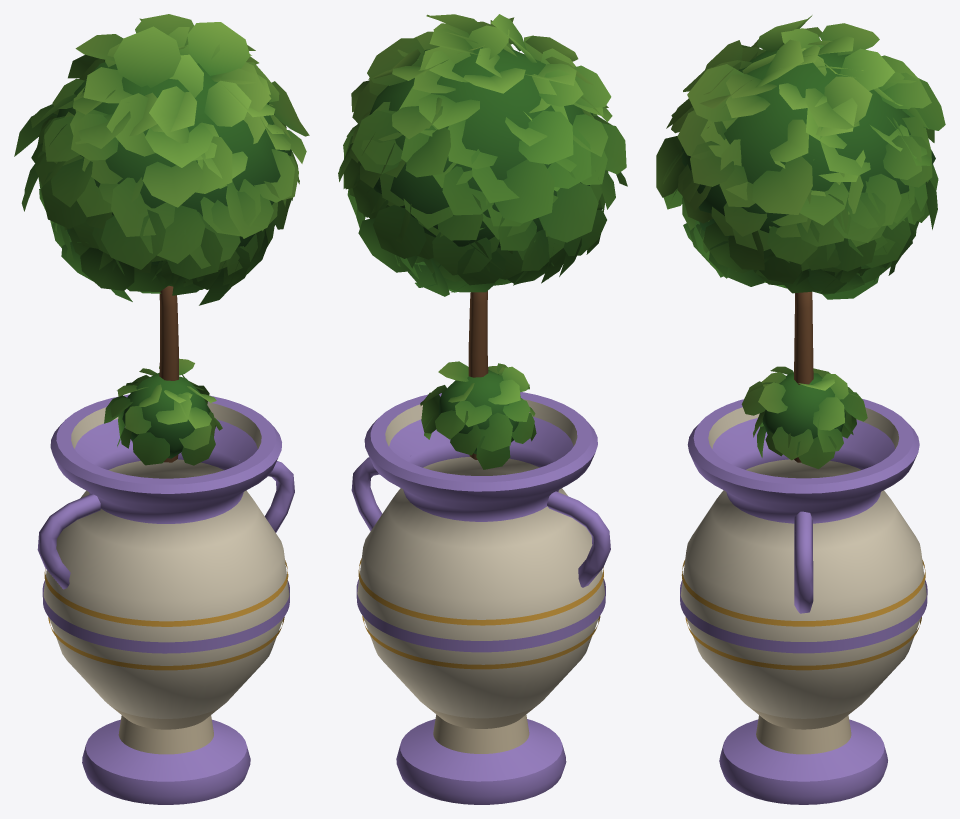
File: potted_topiary_urn.glb
The picture shows the model from 3 angles, left to right: view 1: azimuth 30°, elevation 25°; view 2: azimuth 150°, elevation 25°; view 3: azimuth 270°, elevation 25°; orthographic projection.
Visible parts, largest first — view 1: potted_topiary_urn; view 2: potted_topiary_urn; view 3: potted_topiary_urn.
Boxes of the visible parts, x1,y1,x2,y2 form: potted_topiary_urn: (14,14,309,804); potted_topiary_urn: (338,14,627,804); potted_topiary_urn: (656,15,945,804).
Bounding box in the file's own units: 0.4091 × 1.12 × 0.3941.
